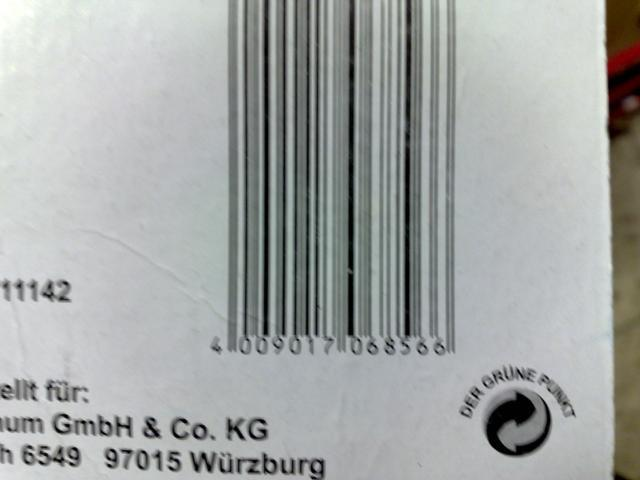Barcode: (203, 1, 479, 366)
